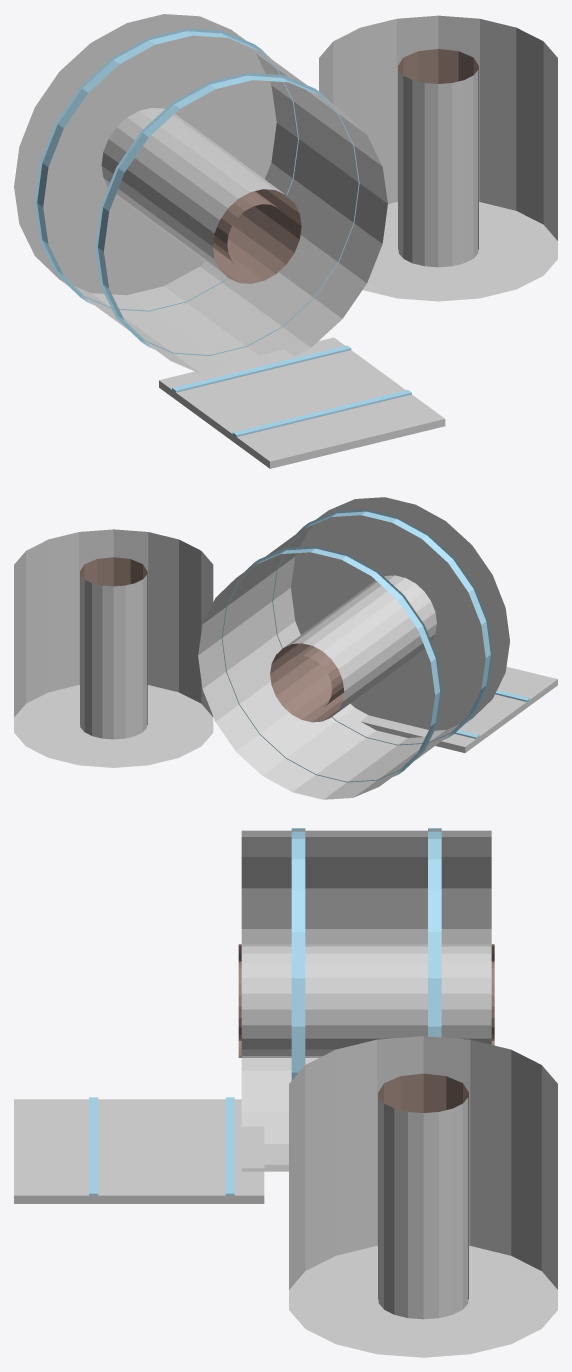
Rendered from toapapper.glb.
The picture shows the model from 3 angles, top to bottom: view 1: azimuth 30°, elevation 25°; view 2: azimuth 150°, elevation 25°; view 3: azimuth 270°, elevation 25°; orthographic projection. The views are drawn at different scales.
Visible parts, largest first — view 1: toapapper; view 2: toapapper; view 3: toapapper.
Boxes of the visible parts, x1,y1,x2,y2 form: toapapper: (14, 14, 557, 468); toapapper: (14, 497, 557, 799); toapapper: (14, 828, 557, 1357).
Size of the model in its own units: 0.572 by 0.3009 by 0.4782.
